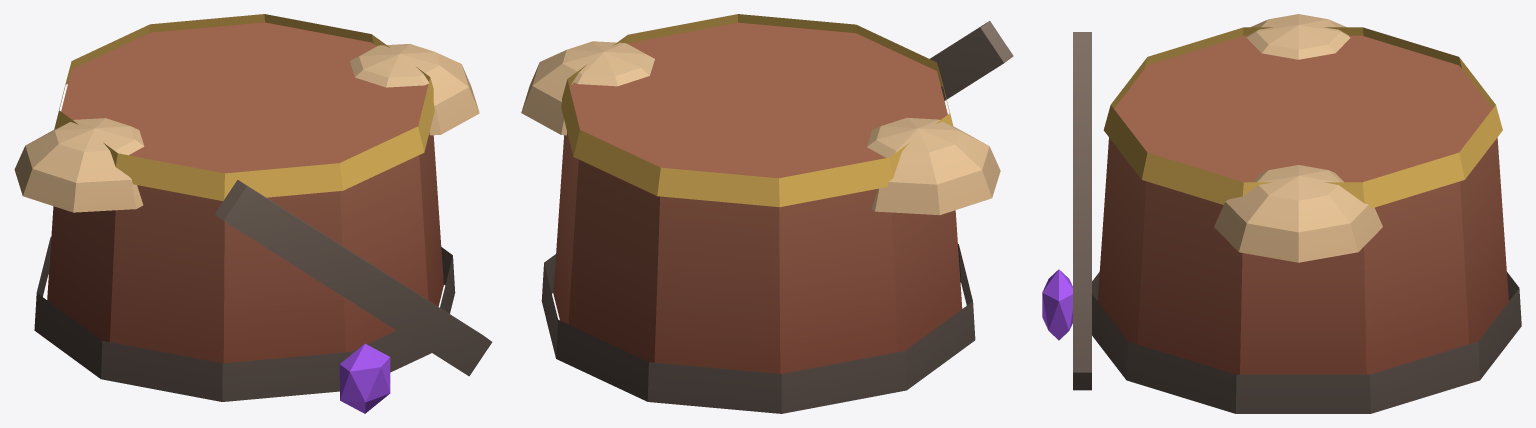
Rendered from hunter_chest_t3.glb.
3 views of the same model, side by side, from view 1: azimuth 30°, elevation 25°; view 2: azimuth 150°, elevation 25°; view 3: azimuth 270°, elevation 25° (orthographic). The views are drawn at different scales.
Visible parts, largest first — view 1: hunter_chest_t3__chest; view 2: hunter_chest_t3__chest; view 3: hunter_chest_t3__chest.
Part boxes in pixels (x1,y1,x2,y2): hunter_chest_t3__chest: (14,14,492,413); hunter_chest_t3__chest: (521,14,1013,413); hunter_chest_t3__chest: (1042,14,1521,413).
Size of the model in its own units: 1.12 by 0.5956 by 1.02.
Materials: 2 (1 with a texture image).
